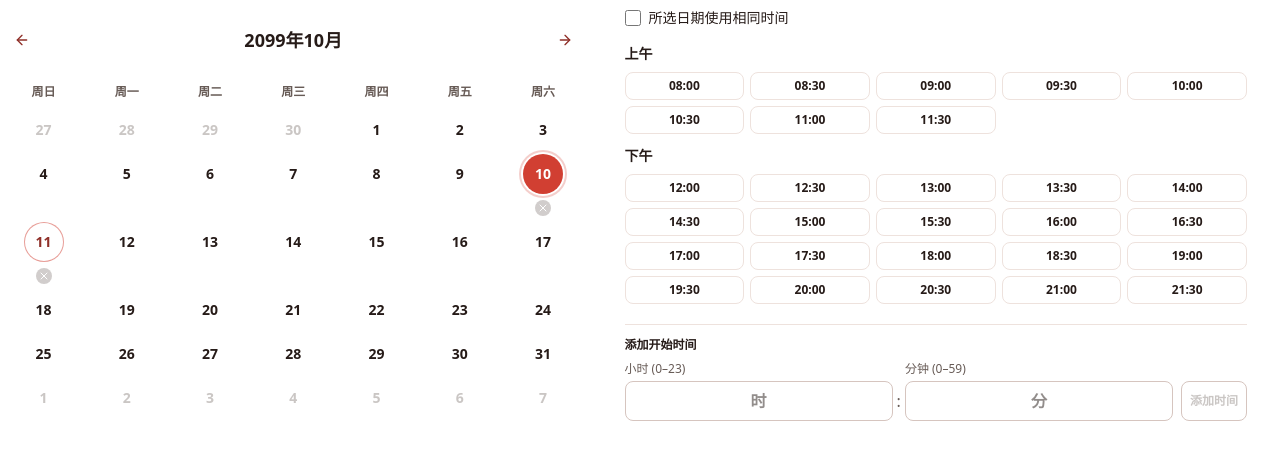
Scenario: schedule time cards › localizes expanded groups in zh-Hans
The width and height of the screenshot is (1262, 466).
Expected: the element "上午" is shown, [624, 44, 1247, 134]
Expected: the element "下午" is shown, [624, 146, 1247, 304]
Step 1. Type "21" into the field labelled "小时 (0–23)" → point(759, 401), box [624, 381, 893, 421]
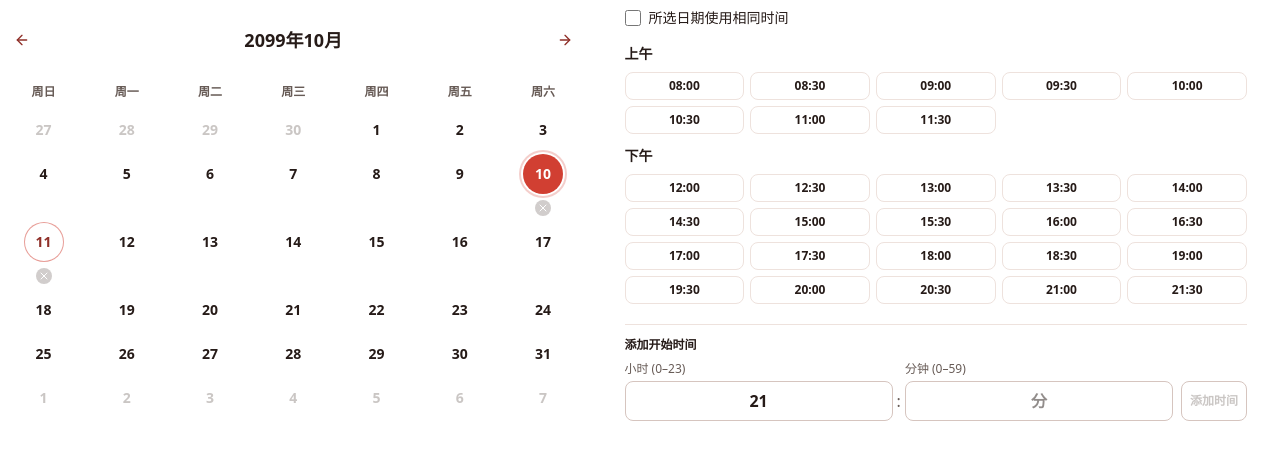
Step 2. Type "53" into the field labelled "分钟 (0–59)" → point(1039, 401), box [905, 381, 1173, 421]
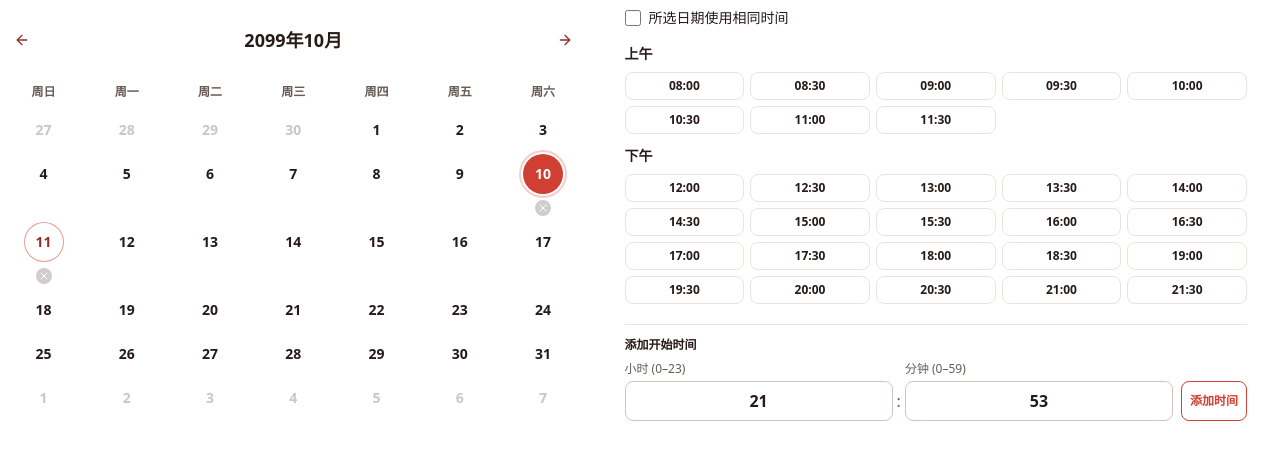
Step 3. Click the button "添加时间" → point(1214, 401), box [1181, 381, 1247, 421]
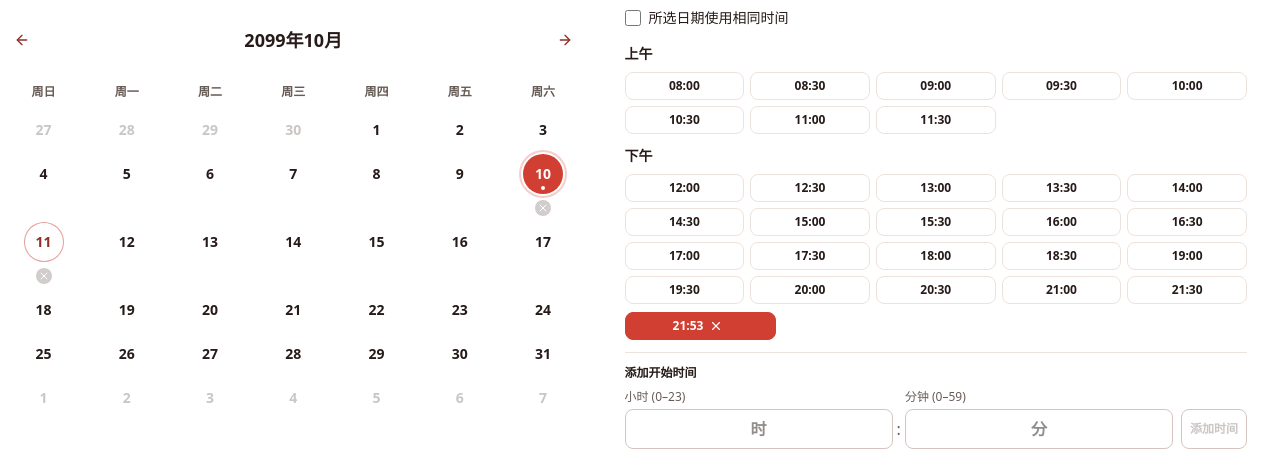
Now the element with test id "schedule-time-2099-10-10-21:53" reads "21:53", box [673, 317, 704, 334]
